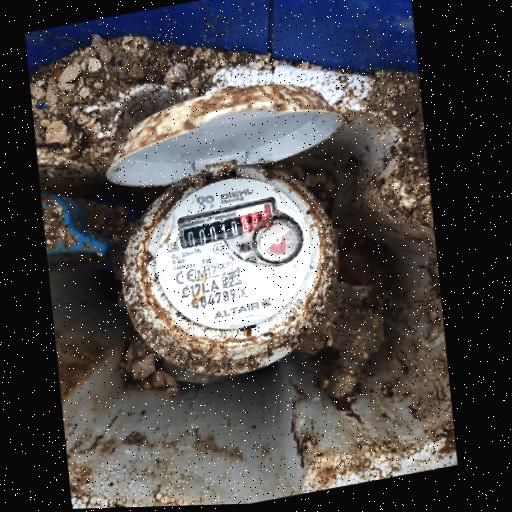0: (194, 223, 210, 244), (184, 227, 199, 247), (205, 221, 220, 241), (228, 216, 242, 237)
1: (218, 218, 231, 239)
4: (258, 203, 271, 219)
8: (238, 213, 252, 234)
9: (248, 211, 261, 231)
border_water_meter_number: (174, 195, 281, 249)
